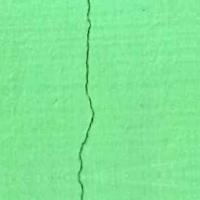crack: (53, 0, 115, 199)
